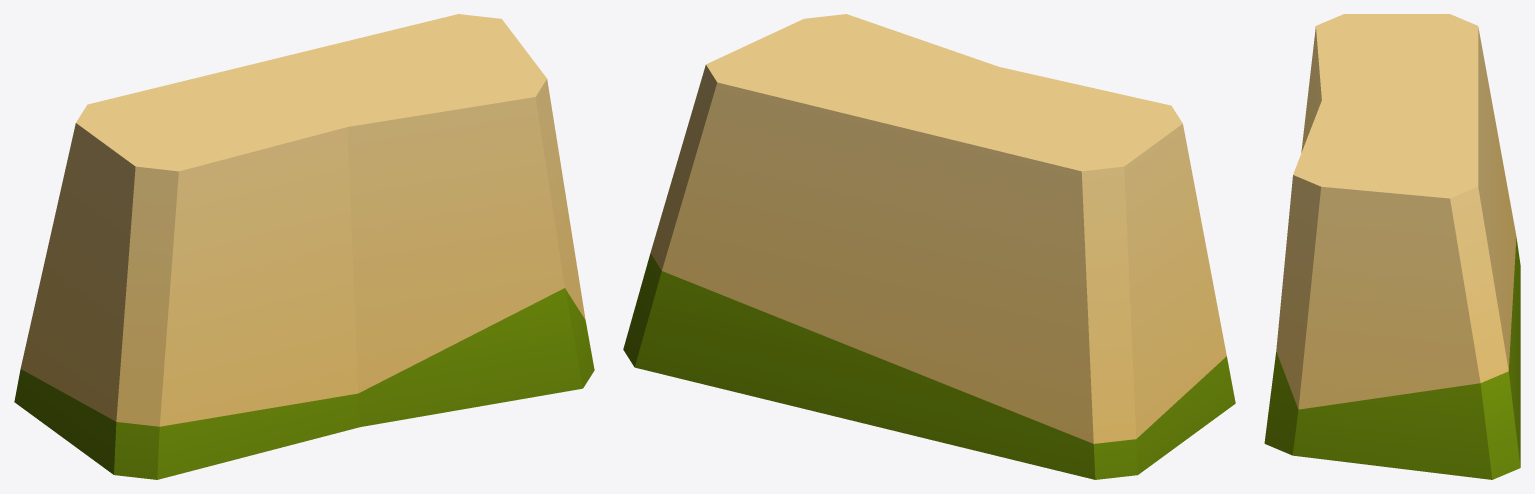
File: Rock_08.fbx
The picture shows the model from 3 angles, left to right: view 1: azimuth 30°, elevation 25°; view 2: azimuth 150°, elevation 25°; view 3: azimuth 270°, elevation 25°; orthographic projection. The views are drawn at different scales.
Visible parts, largest first — view 1: Rock_08; view 2: Rock_08; view 3: Rock_08.
Boxes of the visible parts, x1,y1,x2,y2 form: Rock_08: [14, 14, 594, 479]; Rock_08: [623, 14, 1235, 479]; Rock_08: [1264, 14, 1520, 479].
Bounding box in the file's own units: 662 × 347 × 315.
